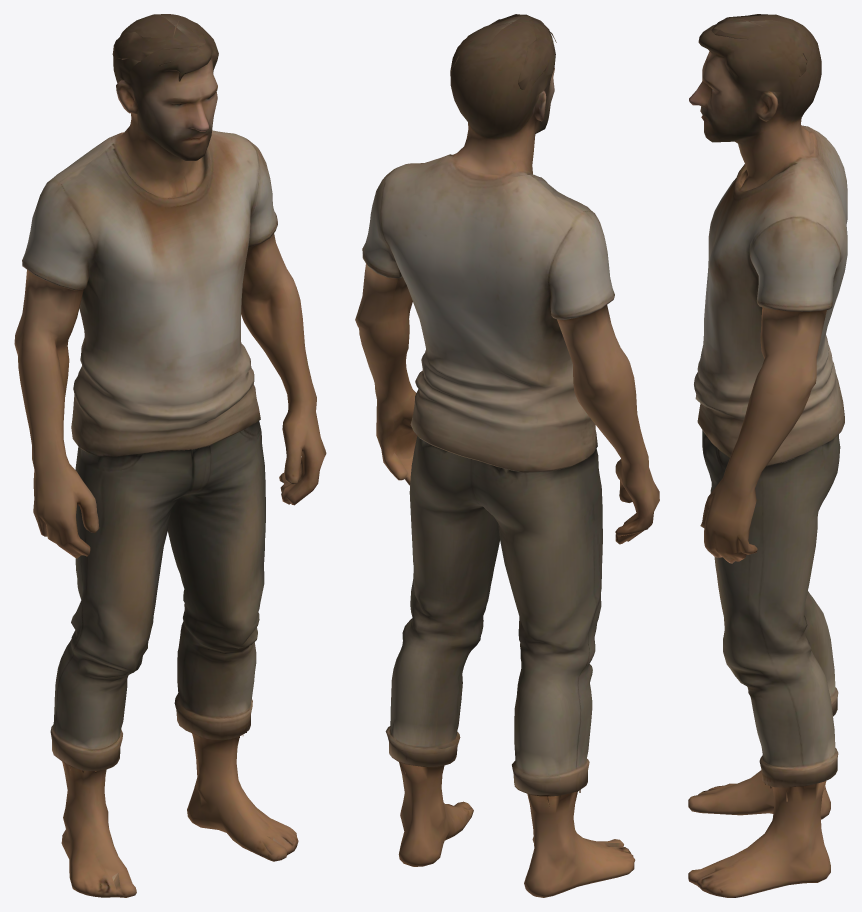
The model's file is weathered_f2d800be_v4.glb.
The picture shows the model from 3 angles, left to right: view 1: azimuth 30°, elevation 25°; view 2: azimuth 150°, elevation 25°; view 3: azimuth 270°, elevation 25°; orthographic projection.
Visible parts, largest first — view 1: material; view 2: material; view 3: material.
Part boxes in pixels (x1,y1,x2,y2): material: (14,14,326,897); material: (355,14,659,897); material: (688,14,847,897).
Bounding box in the file's own units: 0.6697 × 1.9 × 0.3319.
Materials: 1 (1 with a texture image).
